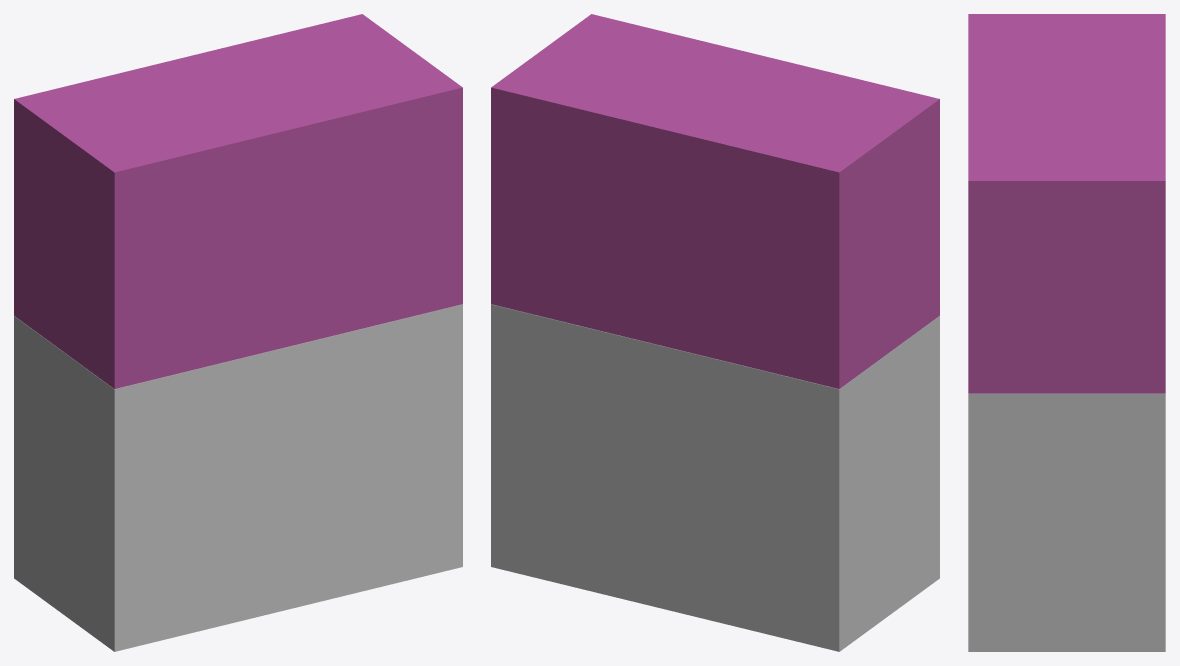
Rendered from Floor Display Case 2.fbx.
3 views of the same model, side by side, from view 1: azimuth 30°, elevation 25°; view 2: azimuth 150°, elevation 25°; view 3: azimuth 270°, elevation 25° (orthographic).
Parts seen in each view (by area): view 1: Glass, Display; view 2: Glass, Display; view 3: Glass, Display.
Boxes of the visible parts, box(x1,y1,x2,y2) form: Glass: box(14, 14, 462, 388); Display: box(14, 304, 462, 651); Glass: box(491, 14, 939, 388); Display: box(491, 304, 939, 651); Glass: box(968, 14, 1165, 393); Display: box(968, 393, 1165, 651).
Size of the model in its own units: 130 by 171 by 65.
